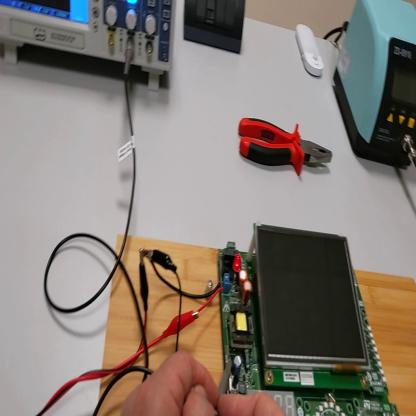hand: (119, 351, 219, 415), (218, 385, 281, 414)
low voltage board: (154, 223, 401, 415)
oscilloscope: (1, 2, 179, 93)
oscilloscope probe tip: (220, 357, 235, 397)
pliers: (239, 118, 332, 176)
welder station: (334, 2, 416, 170)
working area: (101, 232, 416, 416)
